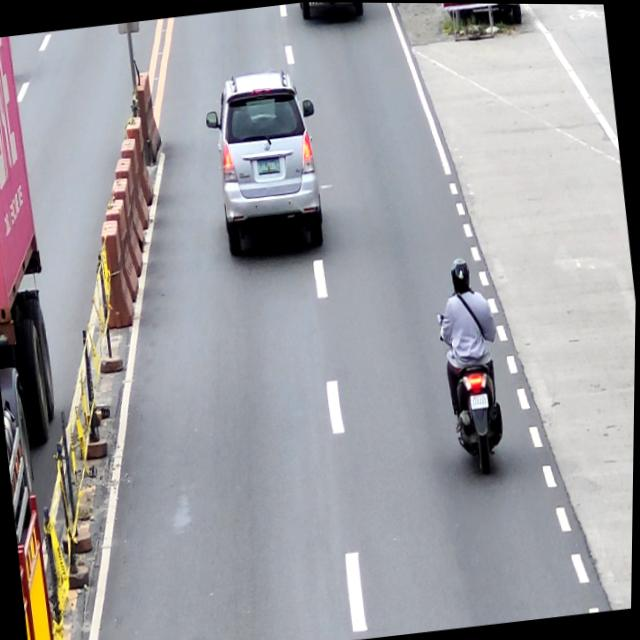Car: (199, 67, 331, 257)
License-Plate: (255, 153, 282, 174), (470, 392, 489, 409)
Motorcycle: (433, 300, 510, 477)
